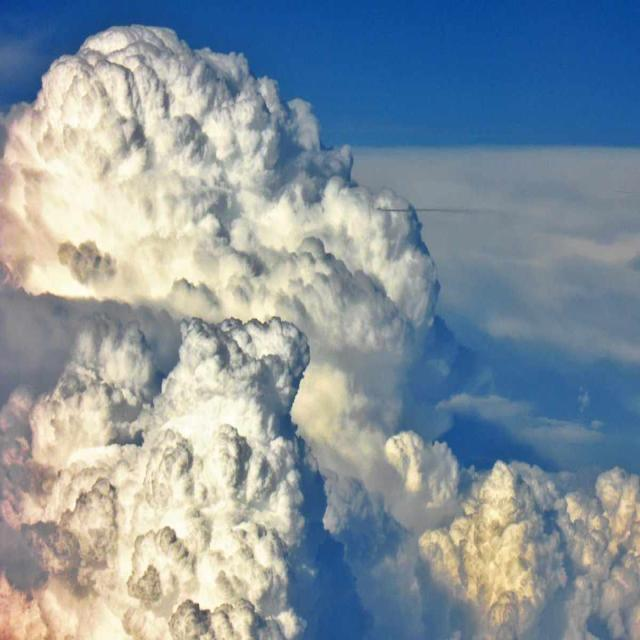cumulonimbus: (0, 20, 419, 640)
